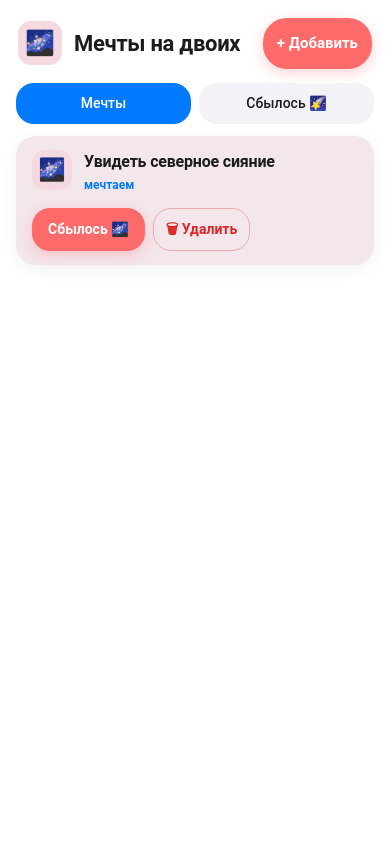
it: Bucket — destructive confirm (delete modal) › tapping 🗑 opens a confirm modal and only commits delete on confirm
What coordinates should you click on to do the following:
click the button "🗑 Удалить"
I would click on:
 (202, 229)
Its box is [153, 208, 250, 250].
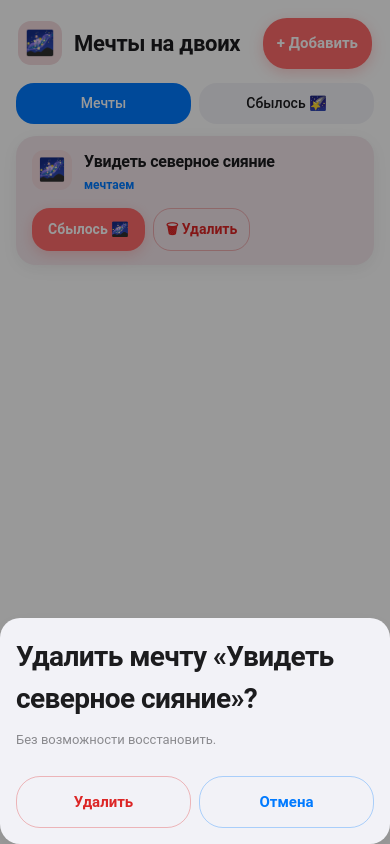
Expected: the text "Увидеть северное сияние" is shown, [84, 152, 275, 170]
Expected: the heading "Удалить мечту «Увидеть северное сияние»?" is shown, [16, 634, 374, 724]
# Cancel — the modal disappears, the row stays, no delete fired.
What coordinates should you click on to do the following:
click the button "Отмена"
I would click on:
 (286, 802)
Its box is [199, 776, 374, 828].
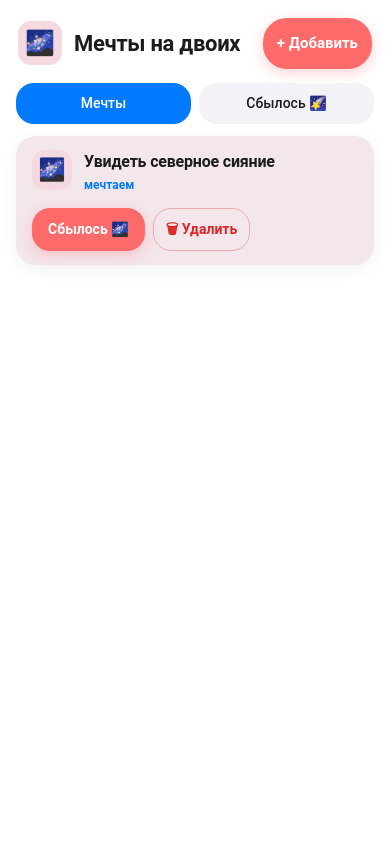
Expected: the text "Увидеть северное сияние" is shown, [84, 152, 275, 170]
Expected: the heading "Удалить мечту" is gone
